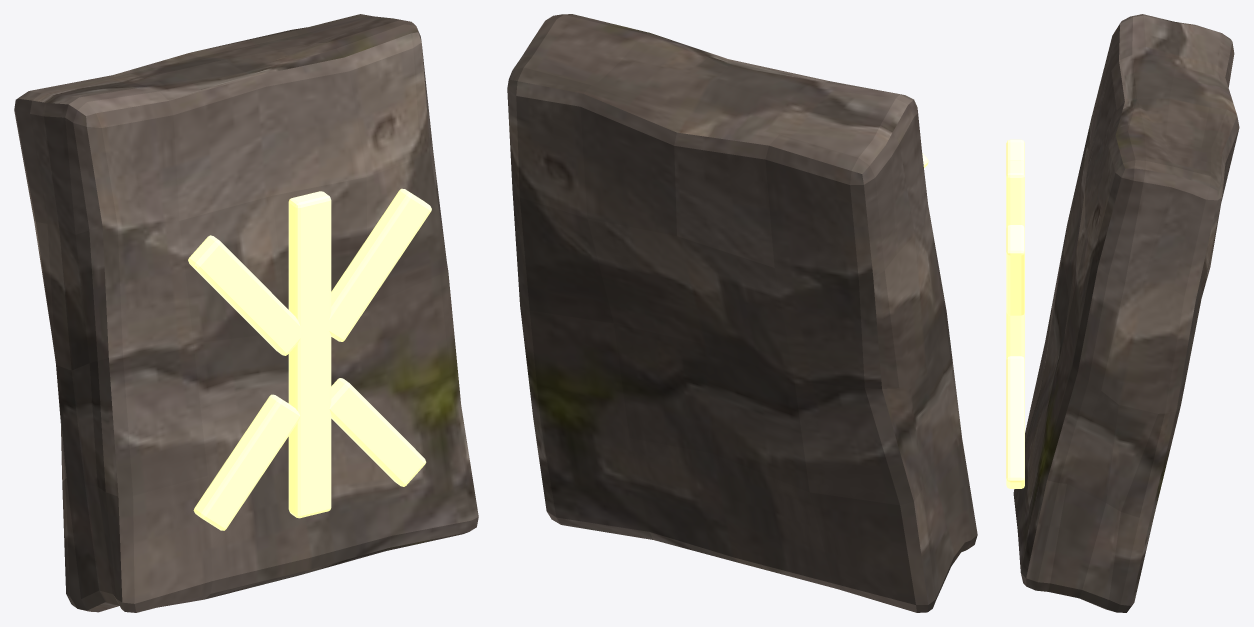
The model's file is rune_ochre.glb.
The picture shows the model from 3 angles, left to right: view 1: azimuth 30°, elevation 25°; view 2: azimuth 150°, elevation 25°; view 3: azimuth 270°, elevation 25°; orthographic projection. The views are drawn at different scales.
Parts seen in each view (by area): view 1: model; view 2: model; view 3: model.
Boxes of the visible parts, x1=… form: model: x1=14, y1=14, x2=478, y2=612; model: x1=507, y1=14, x2=977, y2=612; model: x1=1006, y1=14, x2=1239, y2=612.
Size of the model in its own units: 0.2089 by 0.2692 by 0.1249.
2 materials, 1 textured.
